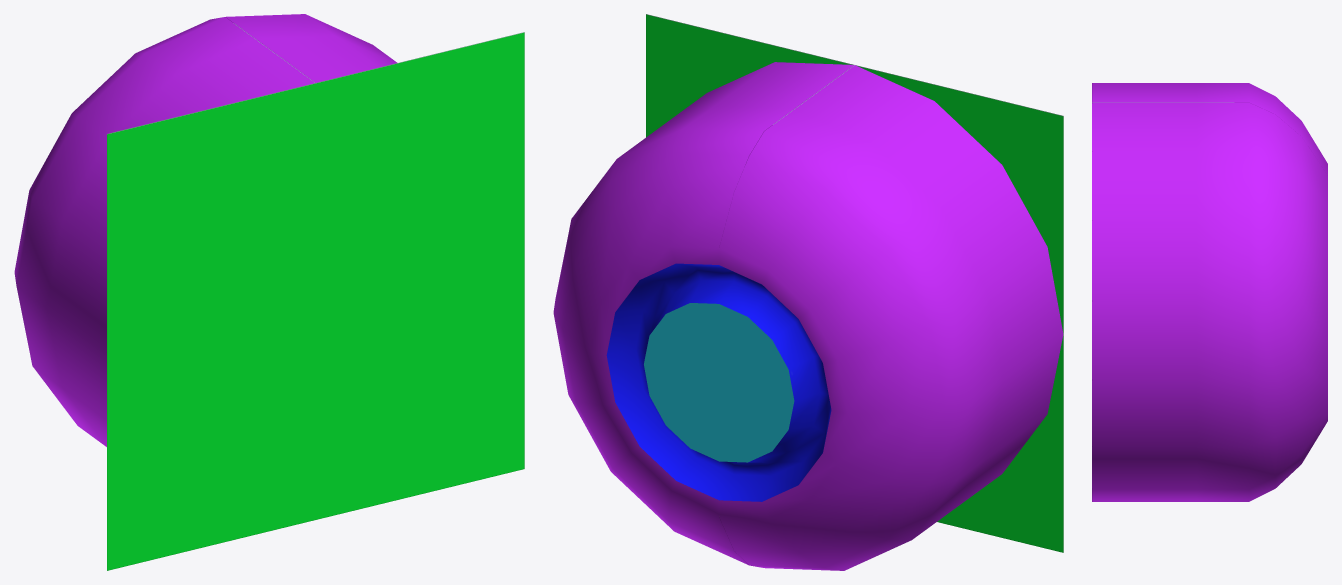
The model's file is 1x1_Cap.fbx.
3 views of the same model, side by side, from view 1: azimuth 30°, elevation 25°; view 2: azimuth 150°, elevation 25°; view 3: azimuth 270°, elevation 25° (orthographic). The views are drawn at different scales.
Visible parts, largest first — view 1: Panel_1x1_Capacitor; view 2: Panel_1x1_Capacitor; view 3: Panel_1x1_Capacitor.
Part boxes in pixels (<box>): Panel_1x1_Capacitor: <box>14,14,524,570</box>; Panel_1x1_Capacitor: <box>553,14,1063,570</box>; Panel_1x1_Capacitor: <box>1092,83,1327,501</box>.
Bounding box in the file's own units: 100 × 100 × 56.25.
